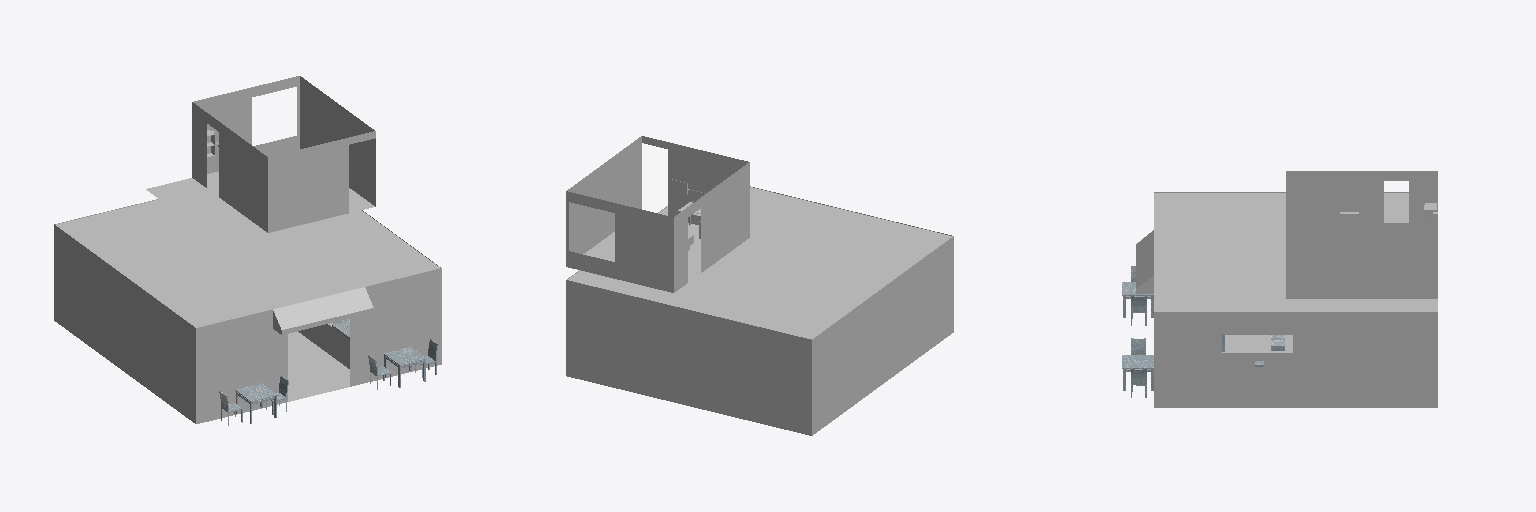
The model's file is SketchUp.015_ID1983.obj.
3 renders of one model, left to right at view 1: azimuth 30°, elevation 25°; view 2: azimuth 150°, elevation 25°; view 3: azimuth 270°, elevation 25°, orthographic.
Parts seen in each view (by area): view 1: SketchUp.015_ID1983; view 2: SketchUp.015_ID1983; view 3: SketchUp.015_ID1983.
Part boxes in pixels (x1,y1,x2,y2): SketchUp.015_ID1983: (54, 76, 441, 425); SketchUp.015_ID1983: (566, 136, 953, 435); SketchUp.015_ID1983: (1122, 171, 1437, 407).
Size of the model in its own units: 8 by 5.77 by 8.9.